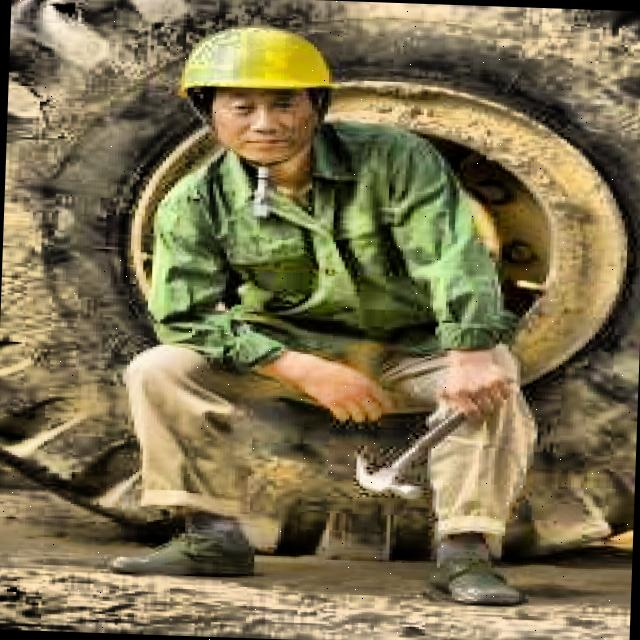helmet: (162, 25, 359, 176)
